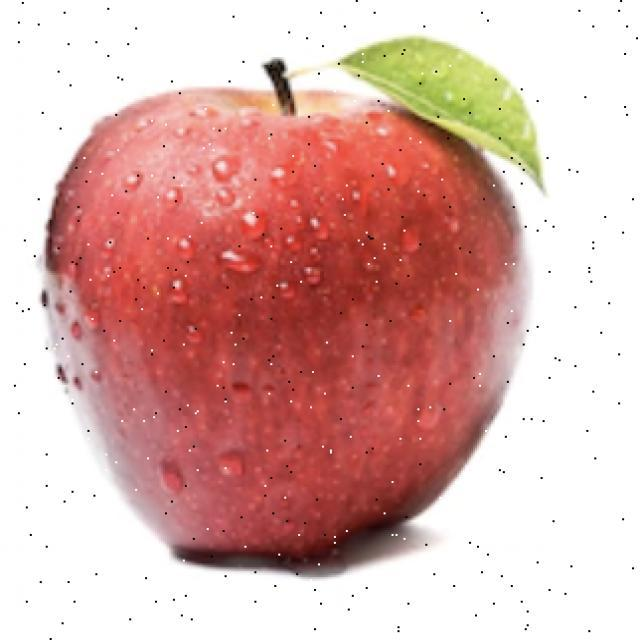Fresh Apple: (32, 84, 518, 548)
